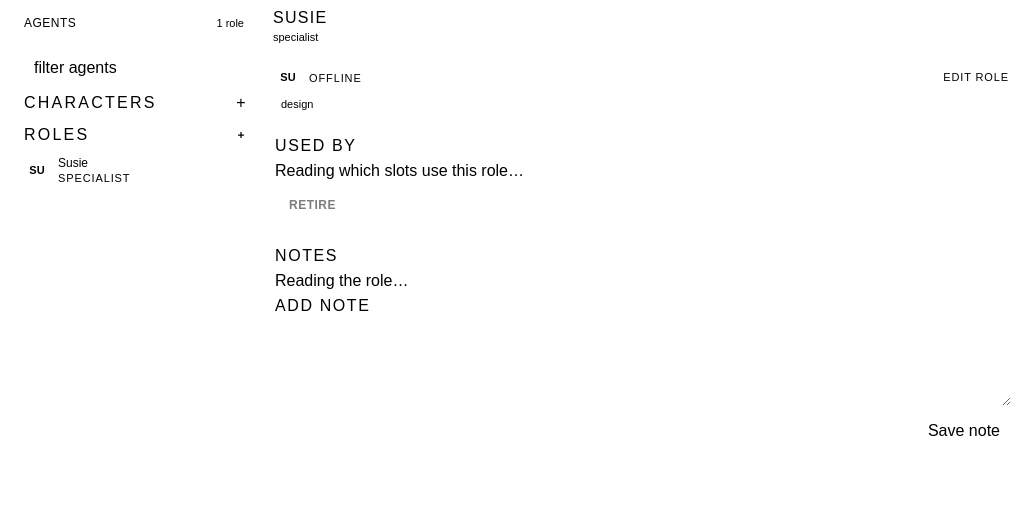
Test: AgentsView › uses persona detail ETags for edits and keeps user input visible on 409 and 428 conflicts
Click the button with aria-label "inspect Susie": coordinates (138, 170) [12,149,263,191]
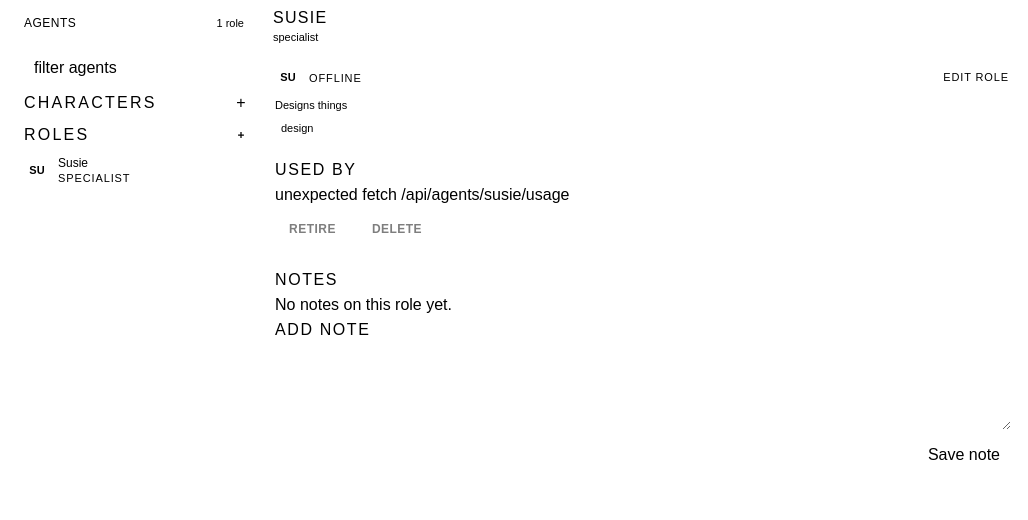
Result: the text "Designs things" is shown at [275,99,347,111]
In the text box labelled "Add note": coordinates (643, 388) [275,346,1011,430], type "Keep this edit"
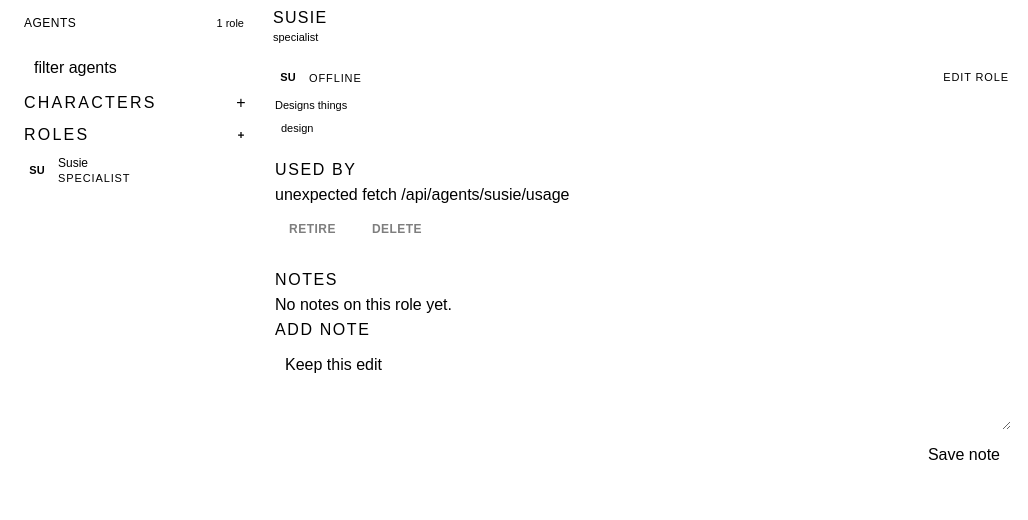
Click the button "Save note": coordinates (964, 454) [917,438,1011,470]
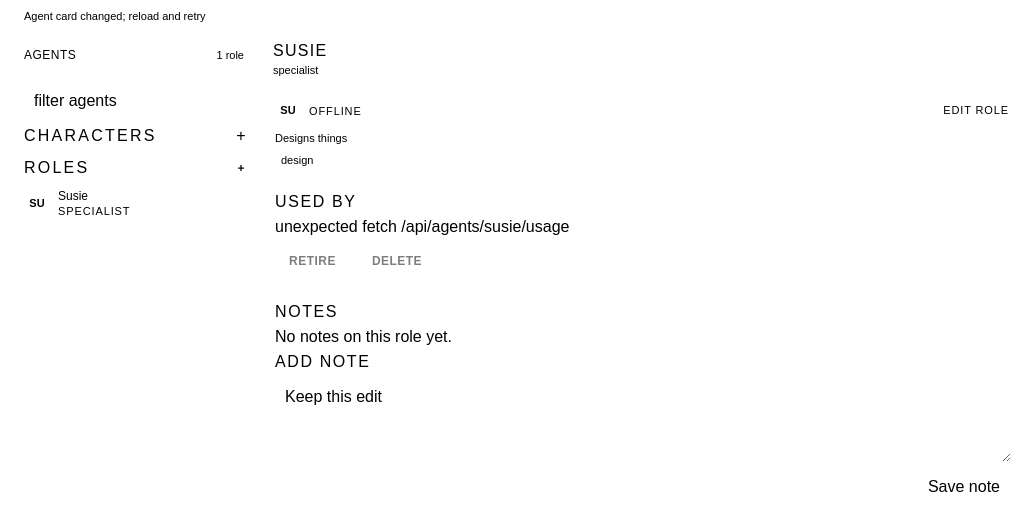
Result: the text "Agent card changed; reload and retry" is shown at [24,10,206,22]
Replace the text in the text box showing "Keep this edit" with "Still visible": coordinates (643, 420) [275,378,1011,462]
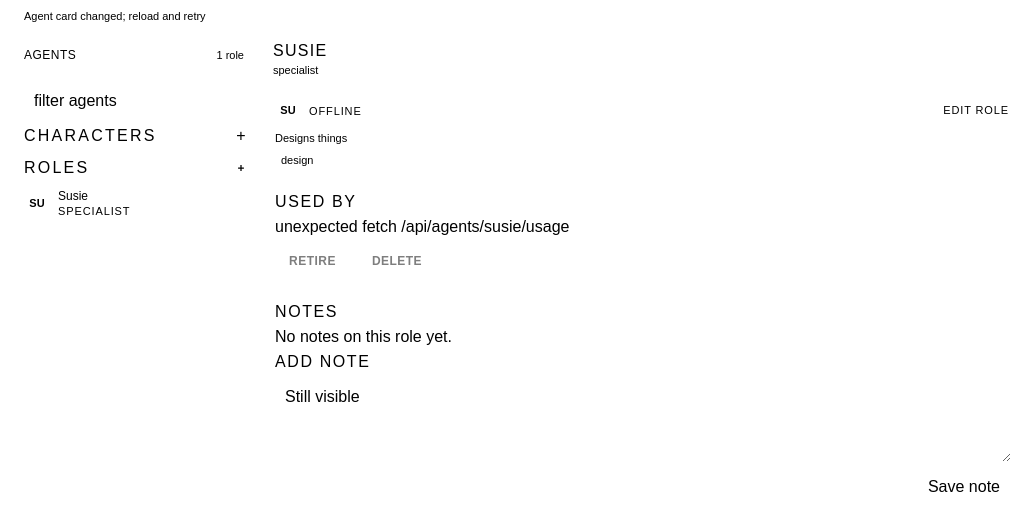
Click the button "Save note": coordinates (964, 487) [917,471,1011,503]
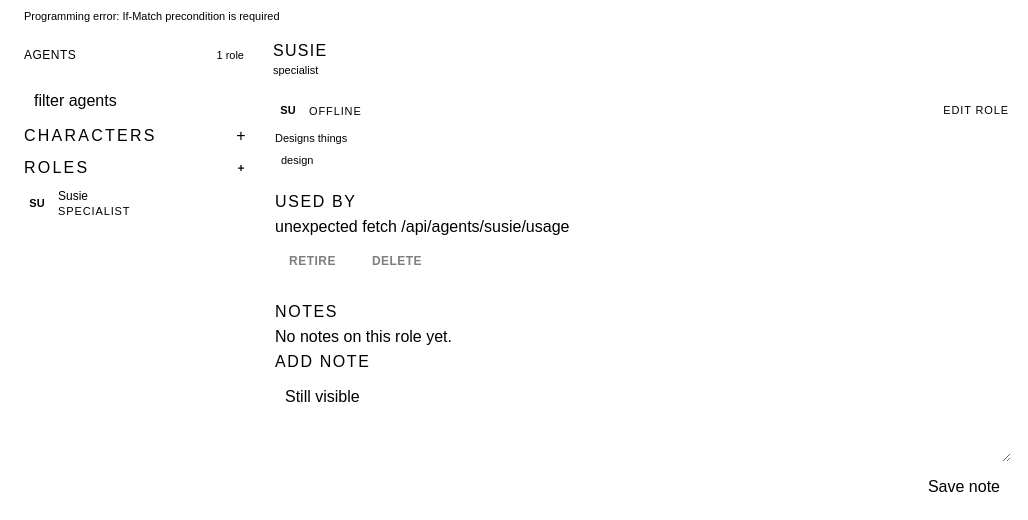
Result: the text "Programming error: If-Match precondition is required" is shown at [24,10,280,22]
